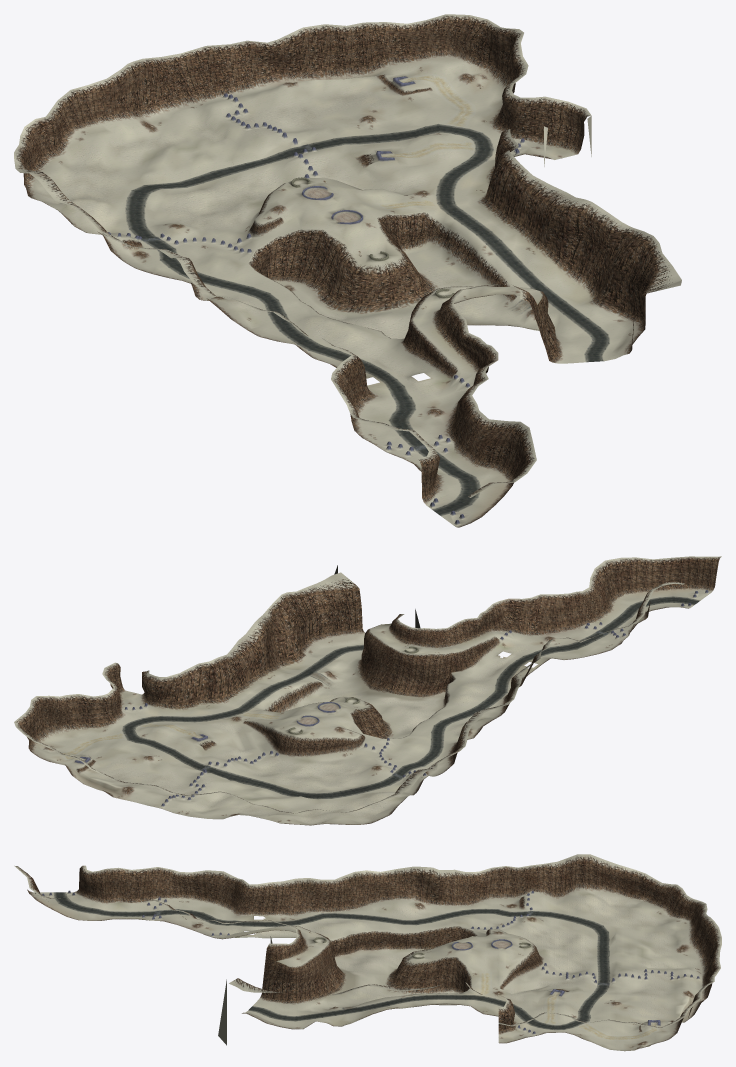
The picture shows the model from 3 angles, top to bottom: view 1: azimuth 30°, elevation 25°; view 2: azimuth 150°, elevation 25°; view 3: azimuth 270°, elevation 25°; orthographic projection. The views are drawn at different scales.
Parts seen in each view (by area): view 1: M09_Z01_01324, M09_Z01_011013, M09_Z01_01492, M09_Z01_01963, M09_Z01_01235, M09_Z01_01613, M09_Z01_01642, M09_Z01_01985, M09_Z01_011005, M09_Z01_011003, M09_Z01_01908, M09_Z01_01994 (+3 smaller); view 2: M09_Z01_01153, M09_Z01_01138, M09_Z01_01192, M09_Z01_01817, M09_Z01_01270, M09_Z01_01245, M09_Z01_01174, M09_Z01_01004, M09_Z01_01074, M09_Z01_01246, M09_Z01_01527, M09_Z01_01084 (+2 smaller); view 3: M09_Z01_01208, M09_Z01_01106, M09_Z01_01820, M09_Z01_01673, M09_Z01_01050, M09_Z01_01395, M09_Z01_01141, M09_Z01_01283, M09_Z01_01440, M09_Z01_01036, M09_Z01_01043, M09_Z01_01730 (+33 smaller).
Boxes of the visible parts, x1,y1,x2,y2 form: M09_Z01_01324: (561,207,598,279); M09_Z01_011013: (181,46,217,92); M09_Z01_01492: (276,228,322,275); M09_Z01_01963: (427,14,467,55); M09_Z01_01235: (601,249,630,317); M09_Z01_01613: (542,104,582,149); M09_Z01_01642: (524,100,562,144); M09_Z01_01985: (348,31,388,71); M09_Z01_011005: (305,24,347,75); M09_Z01_011003: (281,37,306,82); M09_Z01_01908: (466,21,500,71); M09_Z01_01994: (125,64,158,118); M09_Z01_01153: (323,587,355,636); M09_Z01_01138: (340,585,363,634); M09_Z01_01192: (301,597,328,647); M09_Z01_01817: (39,696,63,736); M09_Z01_01270: (395,652,417,697); M09_Z01_01245: (422,655,446,699); M09_Z01_01174: (301,591,334,637); M09_Z01_01004: (672,556,706,587); M09_Z01_01074: (557,595,579,630); M09_Z01_01246: (414,651,435,693); M09_Z01_01527: (200,668,214,705); M09_Z01_01084: (542,599,560,629); M09_Z01_01208: (285,965,305,1004); M09_Z01_01106: (205,877,228,905); M09_Z01_01820: (616,868,635,898); M09_Z01_01673: (545,867,567,899); M09_Z01_01050: (117,874,133,907); M09_Z01_01395: (397,871,423,900); M09_Z01_01141: (242,884,269,916); M09_Z01_01283: (335,879,358,911); M09_Z01_01440: (427,870,447,903); M09_Z01_01036: (87,870,106,904); M09_Z01_01043: (105,870,119,906); M09_Z01_01730: (576,863,590,895).
Size of the model in its own units: 244 by 46.6 by 433.
34 materials, 34 textured.
